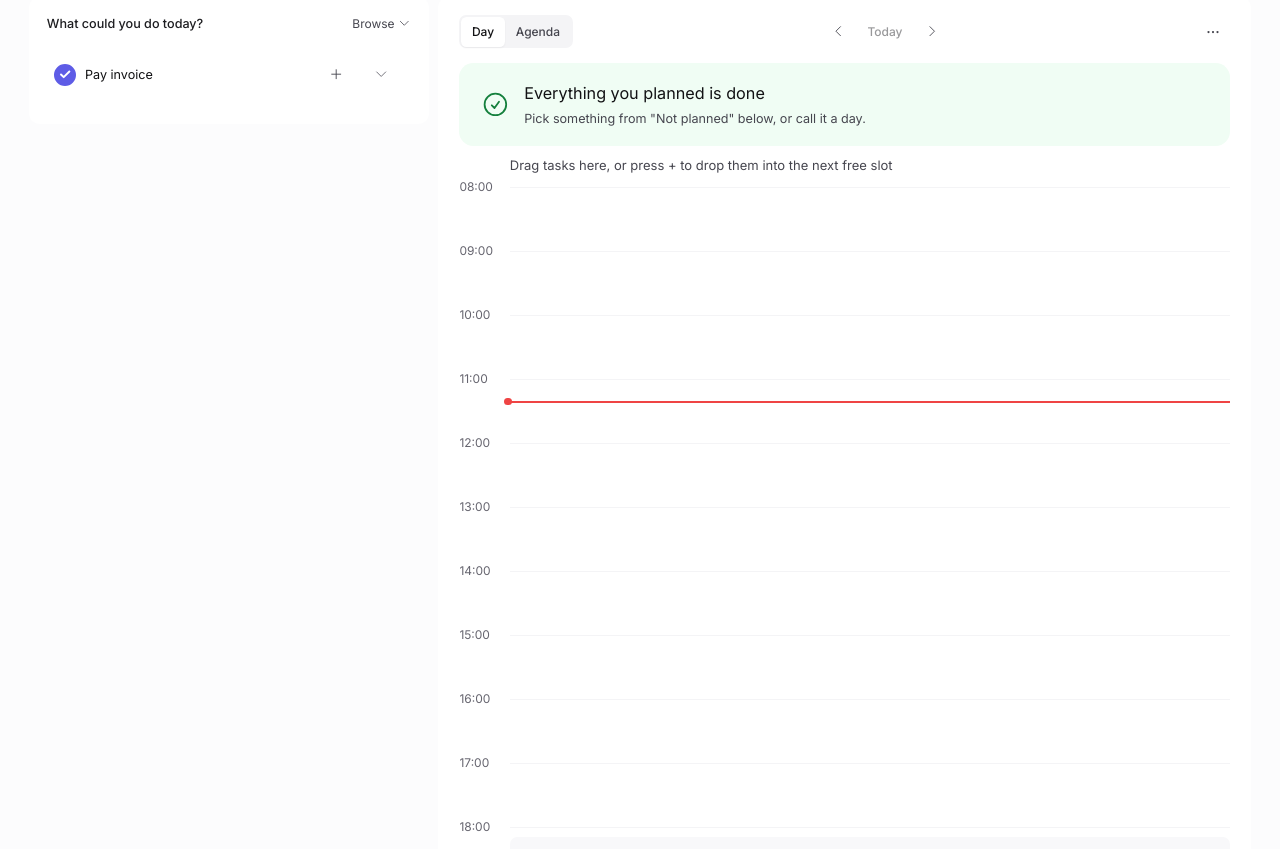
Test: TodayPage routing and panel mode › switches the right panel to Agenda and remembers it
(page scrolled)
Click the button with test id "panel-agenda" at [538, 32], box [505, 17, 571, 47]
(page scrolled)
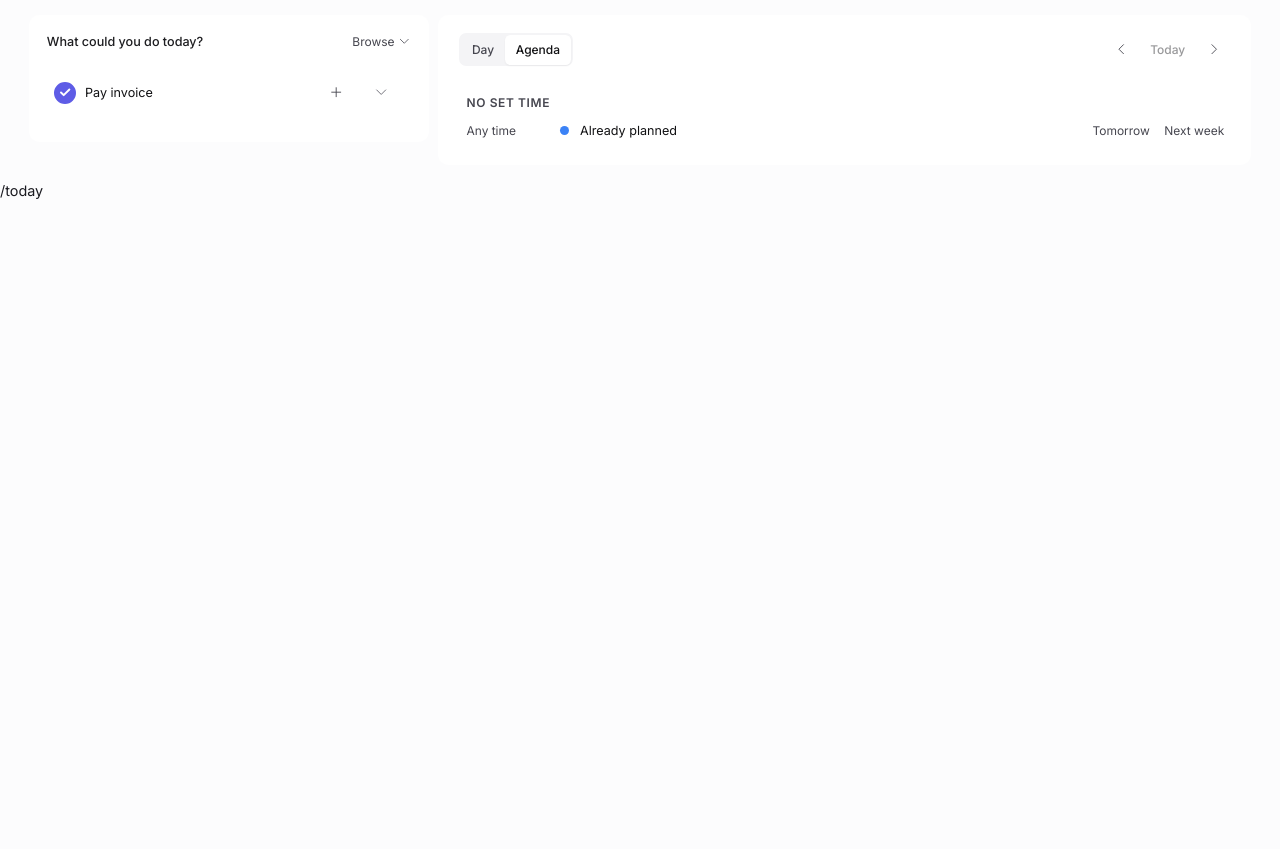
Expected: the button with test id "panel-agenda" is pressed, [505, 35, 571, 65]
